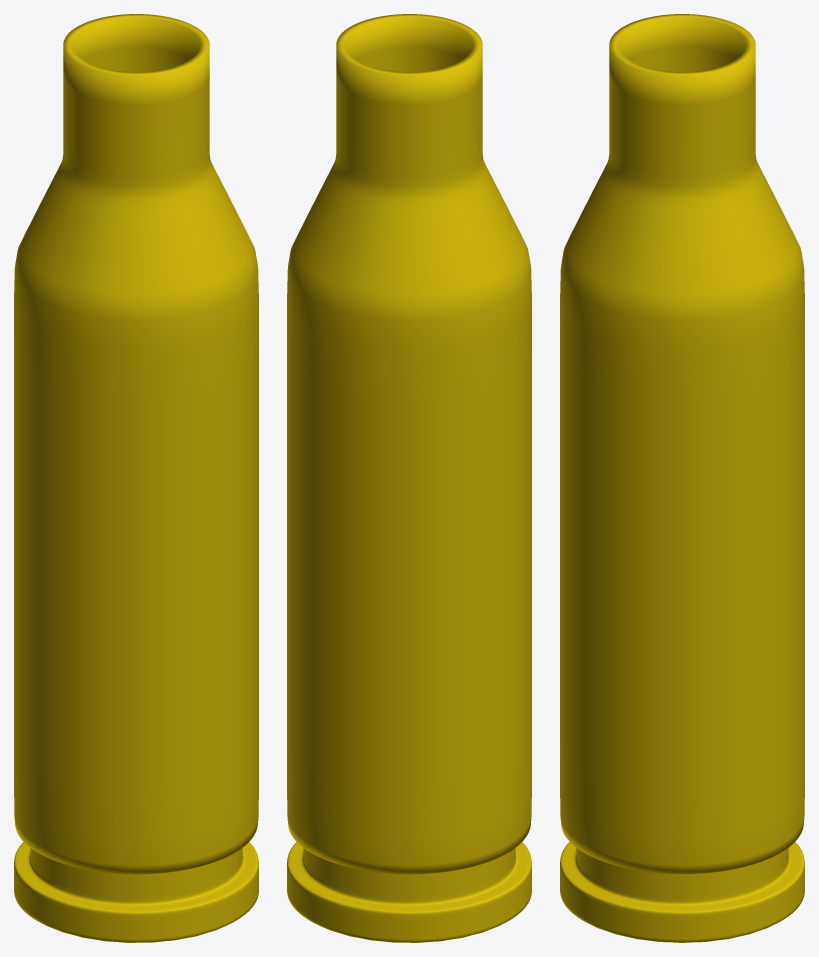
Rendered from Shell.fbx.
3 views of the same model, side by side, from view 1: azimuth 30°, elevation 25°; view 2: azimuth 150°, elevation 25°; view 3: azimuth 270°, elevation 25° (orthographic).
Visible parts, largest first — view 1: Cylinder; view 2: Cylinder; view 3: Cylinder.
Boxes of the visible parts, x1,y1,x2,y2 form: Cylinder: (14, 14, 258, 942); Cylinder: (287, 14, 531, 942); Cylinder: (560, 14, 804, 942).
Size of the model in its own units: 268 by 1023 by 268.
